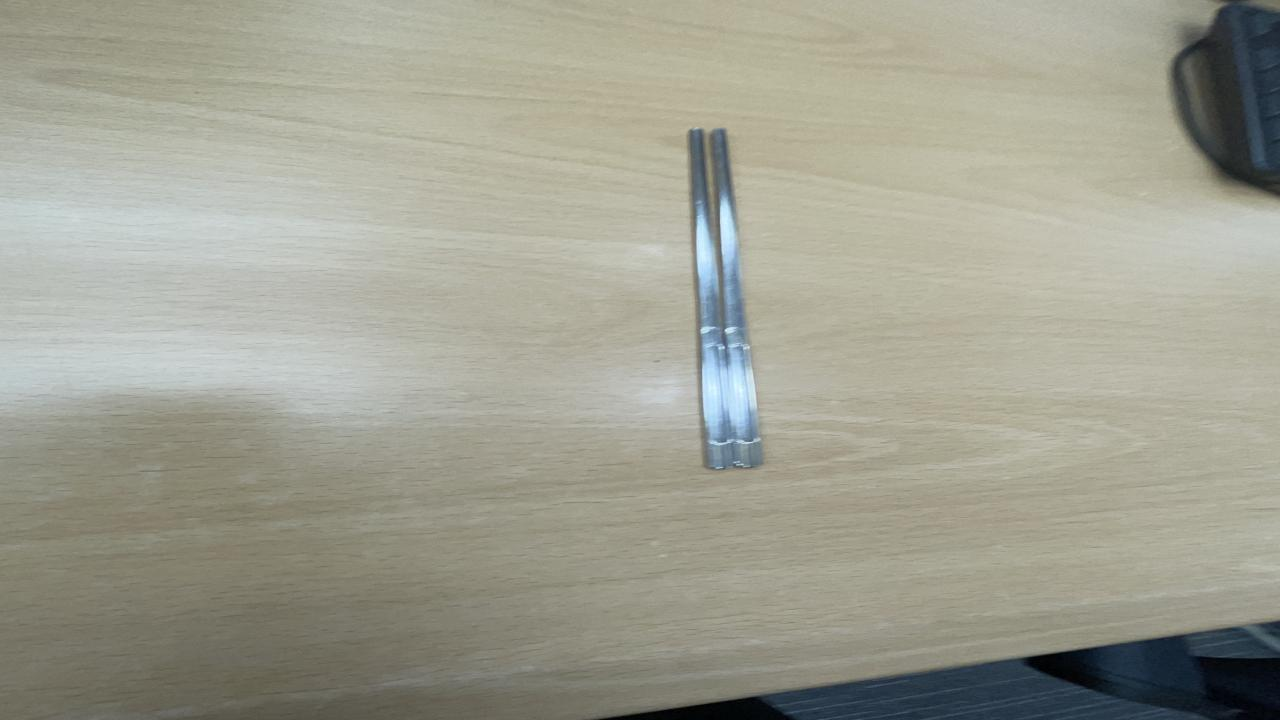chopstick: (684, 127, 764, 470)
